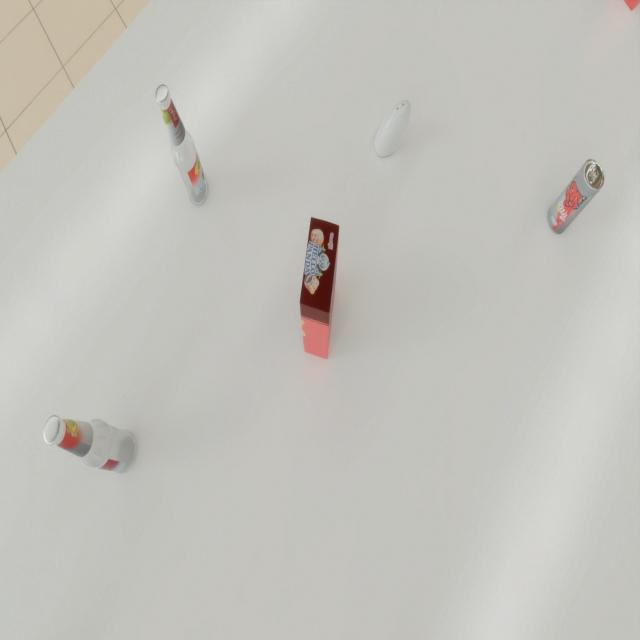Bottle: (155, 85, 209, 206), (43, 415, 137, 475)
HelloPanda: (300, 217, 339, 359)
Rita_zero_sugar: (548, 159, 604, 234)
Salt: (374, 99, 412, 157)
